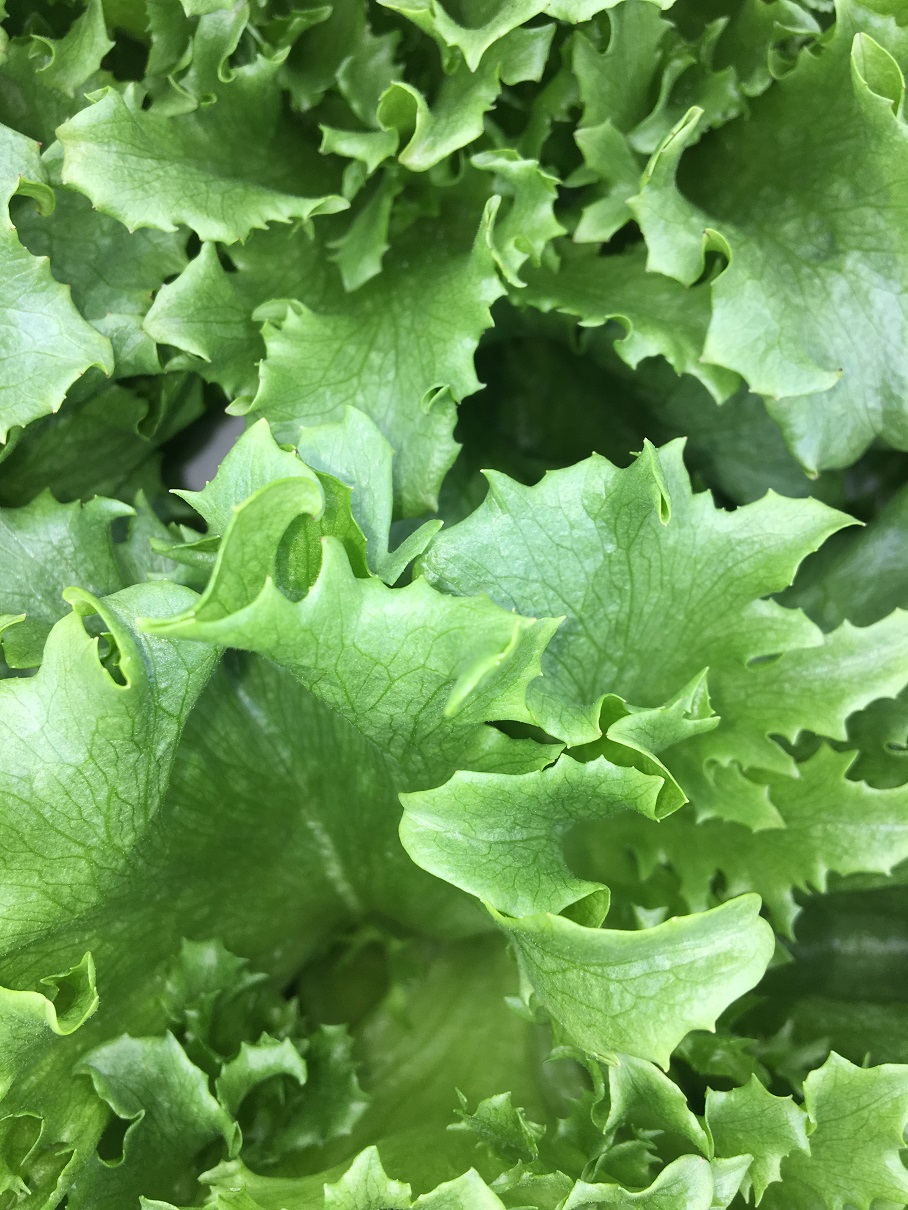tipburn: (74, 356, 125, 398), (817, 352, 859, 391), (281, 433, 318, 472), (696, 217, 724, 255), (26, 128, 51, 163), (9, 170, 34, 191)
